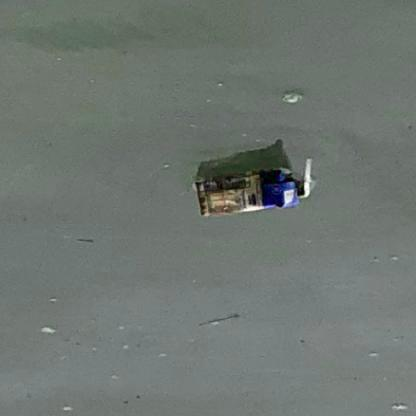Trash: (187, 152, 321, 222)
